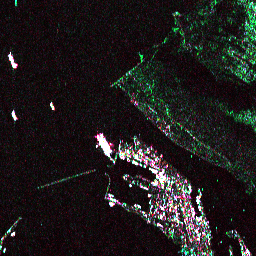ship: (93, 130, 114, 155), (5, 50, 21, 71), (9, 108, 19, 123), (48, 100, 56, 112)
